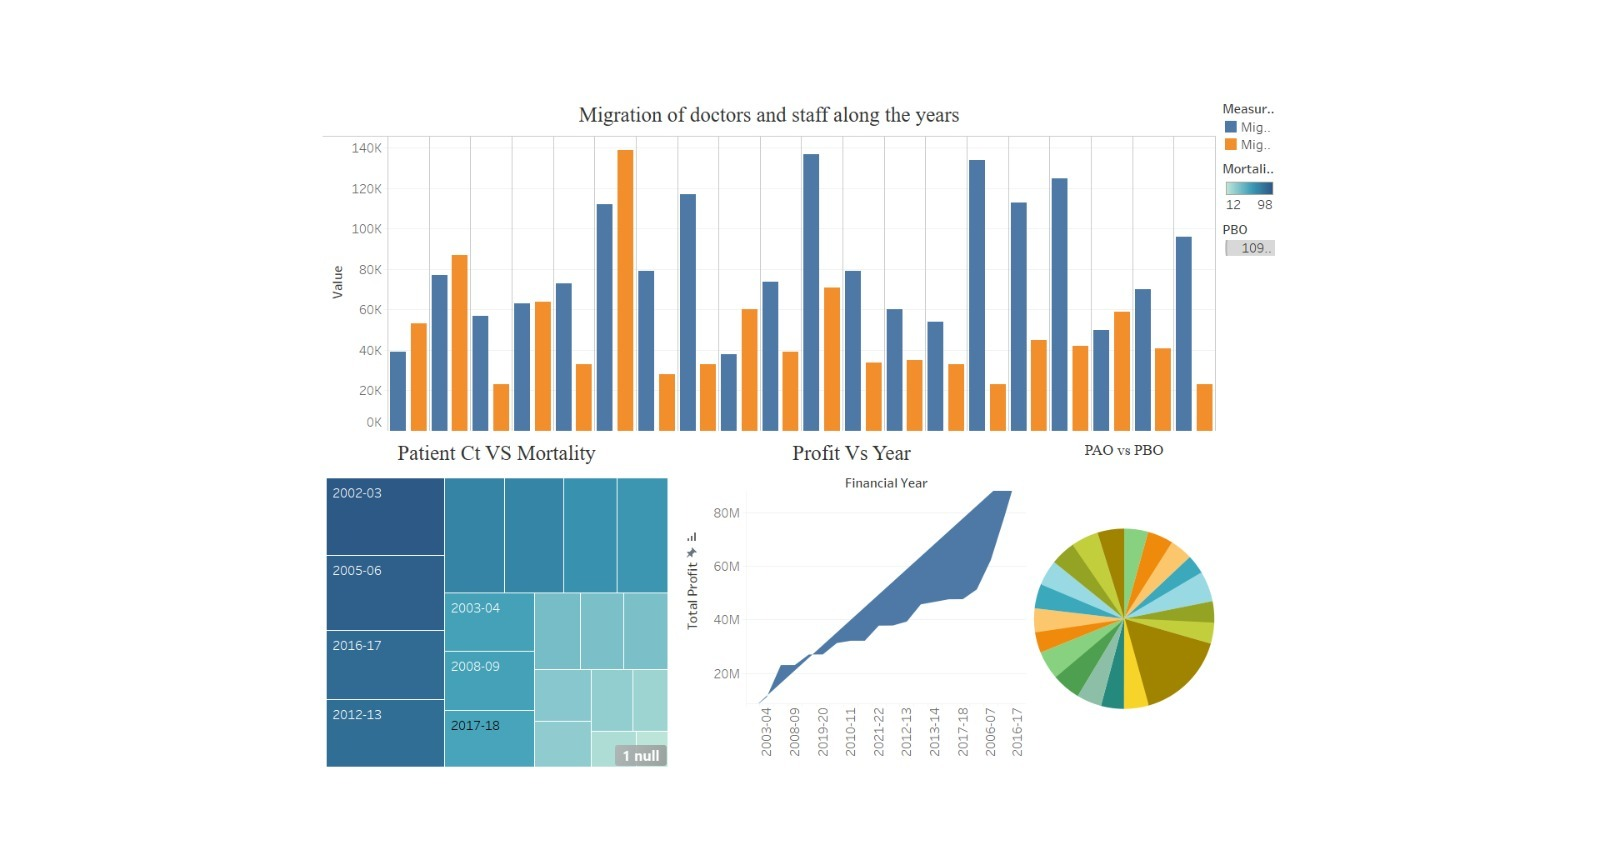

This screenshot's page, from the dashboard's own definition file:
{"tool":"tableau","page":{"name":"FY FILTER","canvas":[1169,827],"ordinal":1},"visuals":[{"type":"worksheet","title":"Sheet 2","mark":"Automatic","cols":["Financial Year"],"box":[8,8,1080,405.5]},{"type":"legend","title":"Sheet 2","param":"[federated.1j8pnng0fvy01t17p56b11vj0iwo].[:Measure Names]","box":[1088,8,73,84]},{"type":"legend","title":"Sheet 3","param":"[federated.1j8pnng0fvy01t17p56b11vj0iwo].[sum:Mortality:qk]","box":[1088,92,73,81]},{"type":"legend","title":"Sheet 9","param":"[federated.1j8pnng0fvy01t17p56b11vj0iwo].[sum:PBO:qk]","box":[1088,173,73,59]},{"type":"worksheet","title":"Sheet 3","mark":"Automatic","box":[8,413.5,426.2,405.5]},{"type":"worksheet","title":"Sheet 15","mark":"Polygon","rows":["Total Profit"],"cols":["Financial Year"],"box":[434.2,413.5,426.2,405.5]},{"type":"worksheet","title":"Sheet 9","mark":"Pie","box":[860.3,413.5,227.7,405.5]}]}

Visuals, with their boxes on the page's 1169x827 design canvas (x1, y1, x2, y2). These are canvas units, not pixel positions in the 1600x848 screenshot, which may show the page scaled, cropped or inside an application window:
"Sheet 2" worksheet: [left=8, top=8, right=1088, bottom=414]
"Sheet 2" legend: [left=1088, top=8, right=1161, bottom=92]
"Sheet 3" legend: [left=1088, top=92, right=1161, bottom=173]
"Sheet 9" legend: [left=1088, top=173, right=1161, bottom=232]
"Sheet 3" worksheet: [left=8, top=414, right=434, bottom=819]
"Sheet 15" worksheet (Polygon marks): [left=434, top=414, right=860, bottom=819]
"Sheet 9" worksheet (Pie marks): [left=860, top=414, right=1088, bottom=819]
